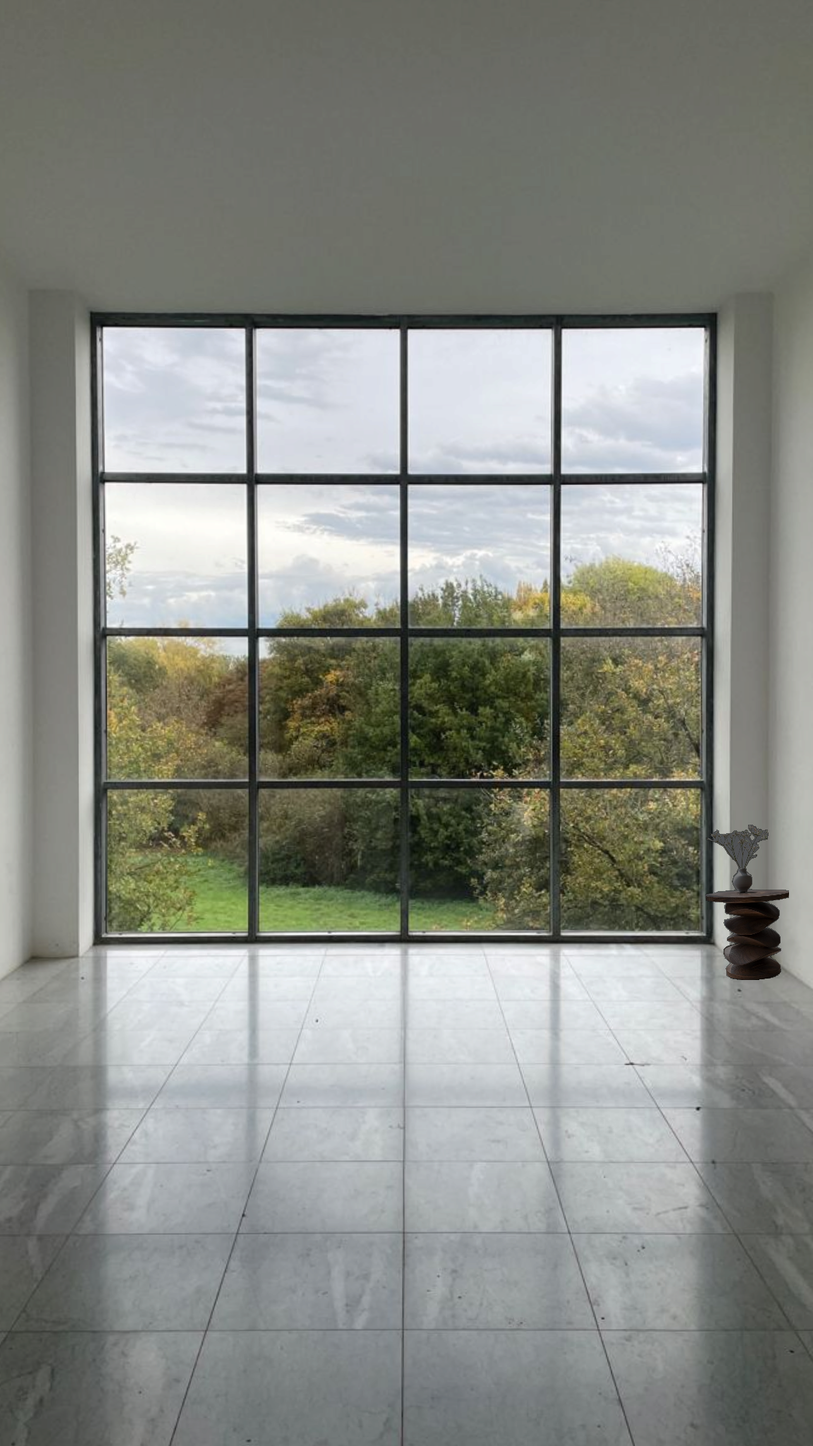glass_panel: (563, 330, 709, 472), (103, 485, 246, 628), (100, 330, 246, 470), (562, 789, 704, 931), (108, 789, 247, 933), (260, 789, 399, 933), (562, 488, 704, 628), (409, 333, 552, 472), (256, 332, 399, 471), (411, 788, 549, 932), (410, 490, 551, 627), (562, 642, 703, 779), (258, 490, 399, 626), (260, 642, 398, 779), (107, 643, 246, 779), (411, 643, 548, 779)
